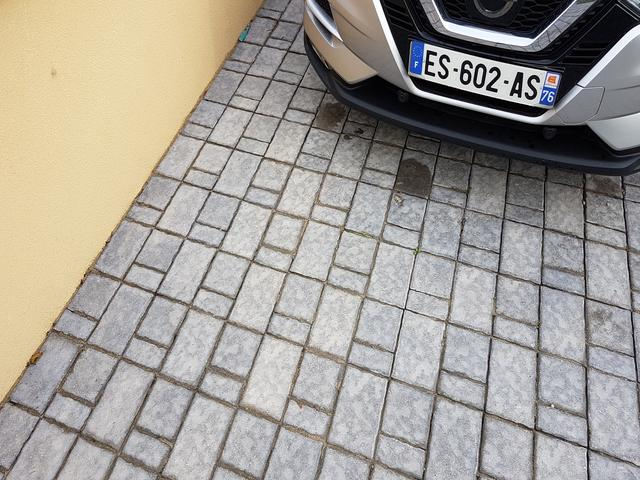Quashquai: (402, 26, 576, 112)
